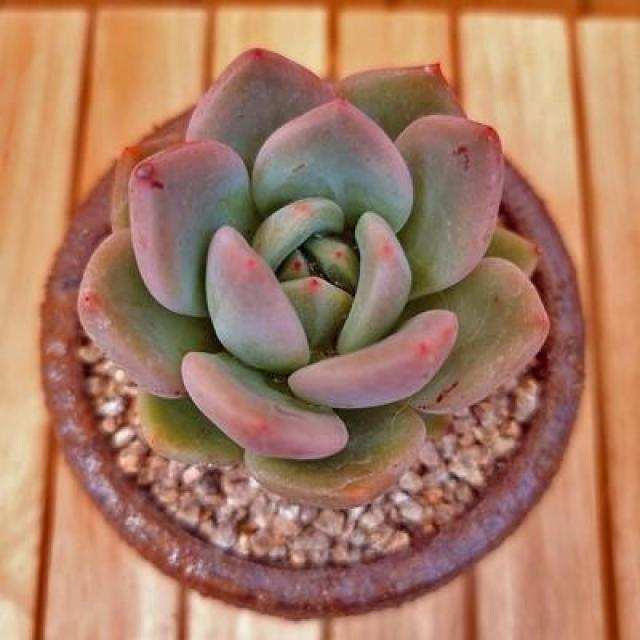LumiRose: (79, 49, 549, 508)
